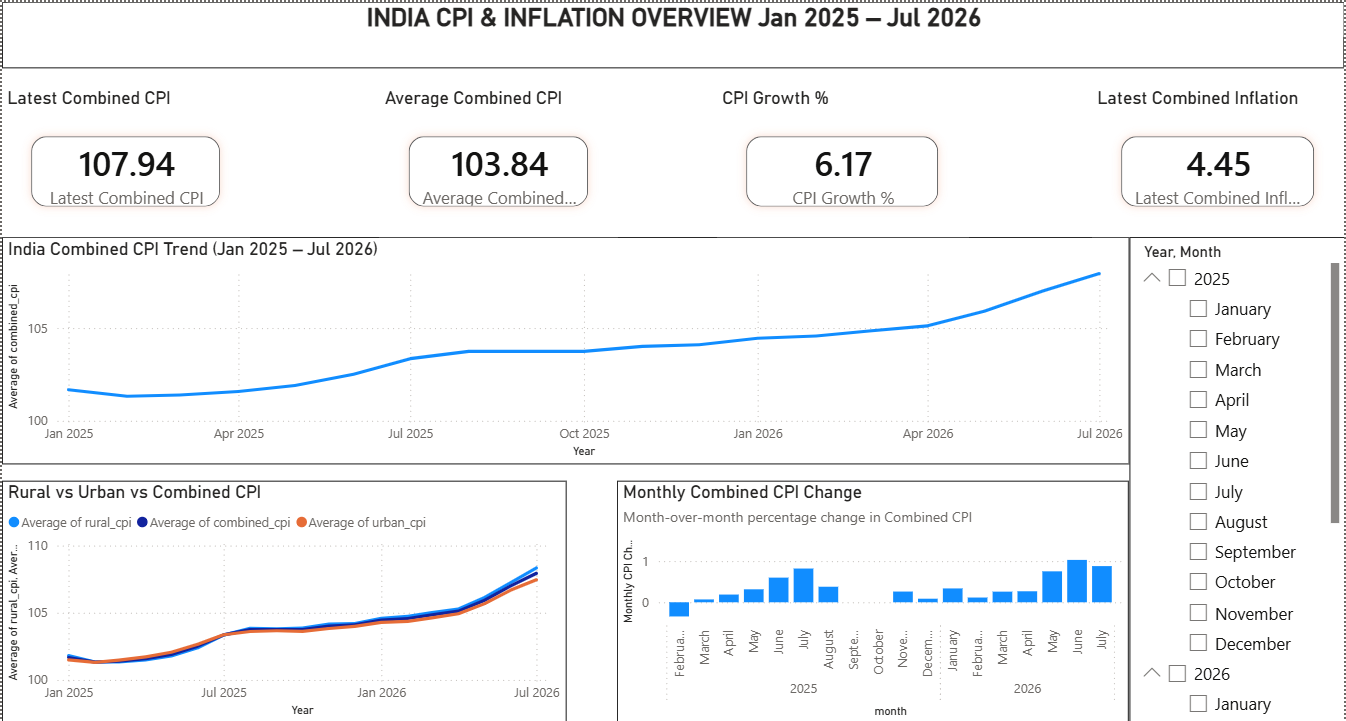

What the dashboard file says about the page in this screenshot:
{"tool":"powerbi","page":{"name":"Page 1","canvas":[1280,720],"ordinal":0},"visuals":[{"type":"lineChart","title":"India Combined CPI Trend (Jan 2025 – Jul 2026)","fields":{"Category":["Table1.month.Variation.Date Hierarchy.Year","Table1.month.Variation.Date Hierarchy.Month"],"Y":["Avg(Table1.combined_cpi)"]},"box":[0,223.8,1074.9,216.4],"z":0},{"type":"lineChart","title":"Rural vs Urban vs Combined CPI","fields":{"Y":["Avg(Table1.rural_cpi)","Avg(Table1.combined_cpi)","Avg(Table1.urban_cpi)"],"Category":["Table1.month.Variation.Date Hierarchy.Year","Table1.month.Variation.Date Hierarchy.Month"]},"box":[0,456.1,538,231.1],"z":1000},{"type":"clusteredColumnChart","title":"Monthly Combined CPI Change","fields":{"Category":["Table1.month.Variation.Date Hierarchy.Year","Table1.month.Variation.Date Hierarchy.Month"],"Y":["Avg(Table1.Combined_CPI_MoM_Pct)"]},"box":[587,456.1,487.9,231.1],"z":2000},{"type":"cardVisual","title":"Latest Combined CPI","fields":{"Data":["Table1.Latest Combined CPI"]},"box":[0,80.7,236,143.1],"z":3000},{"type":"cardVisual","title":"Average Combined CPI","fields":{"Data":["Table1.Average Combined CPI"]},"box":[359.5,80.7,227.4,143.1],"z":4000},{"type":"cardVisual","title":"Latest Combined Inflation","fields":{"Data":["Table1.Latest Combined Inflation"]},"box":[1039.4,80.7,240.9,143.1],"z":5000},{"type":"cardVisual","title":"CPI Growth %","fields":{"Data":["Table1.CPI Growth %"]},"box":[682.3,80.7,239.7,143.1],"z":6000},{"type":"slicer","fields":{"Values":["Table1.month.Variation.Date Hierarchy.Year","Table1.month.Variation.Date Hierarchy.Month"]},"box":[1074.9,223.8,205.4,463.5],"z":7000},{"type":"textbox","title":"INDIA CPI & INFLATION OVERVIEW Jan 2025 – Jul 2026","box":[0,0,1280.3,63.6],"z":8000}]}

Visuals, with their boxes on the page's 1280x720 design canvas (x1, y1, x2, y2). These are canvas units, not pixel positions in the 1346x721 screenshot, which may show the page scaled, cropped or inside an application window:
"India Combined CPI Trend (Jan 2025 – Jul 2026)" lineChart: [left=0, top=224, right=1075, bottom=440]
"Rural vs Urban vs Combined CPI" lineChart: [left=0, top=456, right=538, bottom=687]
"Monthly Combined CPI Change" clusteredColumnChart: [left=587, top=456, right=1075, bottom=687]
"Latest Combined CPI" cardVisual: [left=0, top=81, right=236, bottom=224]
"Average Combined CPI" cardVisual: [left=360, top=81, right=587, bottom=224]
"Latest Combined Inflation" cardVisual: [left=1039, top=81, right=1280, bottom=224]
"CPI Growth %" cardVisual: [left=682, top=81, right=922, bottom=224]
slicer - Table1.month.Variation.Date Hierarchy.Year x Table1.month.Variation.Date Hierarchy.Month: [left=1075, top=224, right=1280, bottom=687]
"INDIA CPI & INFLATION OVERVIEW Jan 2025 – Jul 2026" textbox: [left=0, top=0, right=1280, bottom=64]
